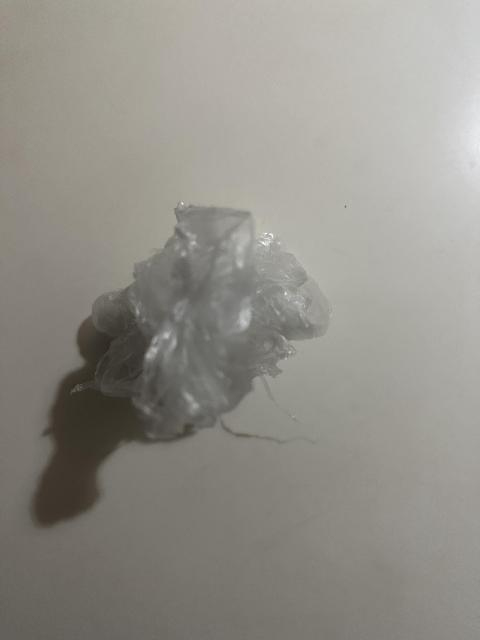Plastik: (81, 203, 343, 449)
